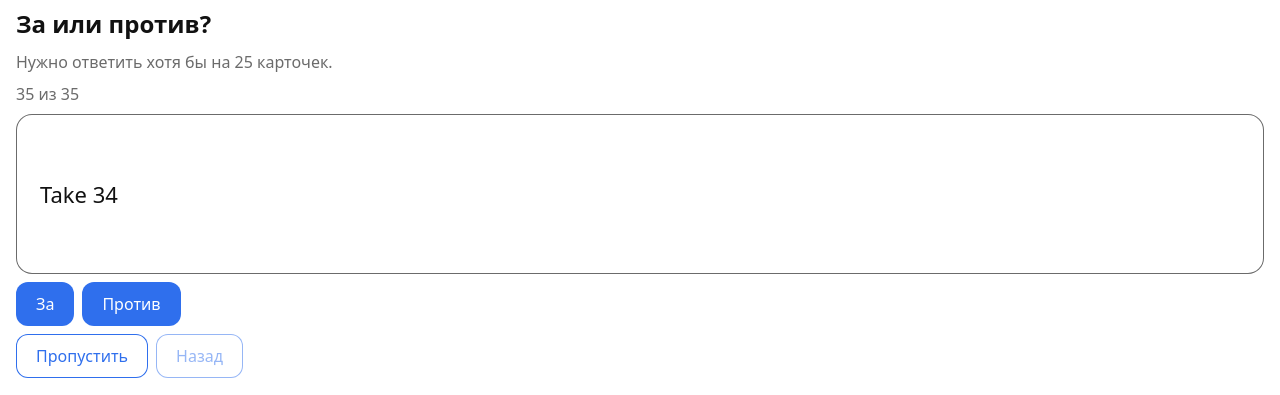
Scenario: <Deck> › brings skipped cards back when fewer than 25 were answered, then finishes
Later steps or results of the test are not shown.
Expected: the text "Take 34" is shown, 16,114 -> 1264,274
Step 1. Click the button "За" → (45, 304), box 16,282 -> 74,326
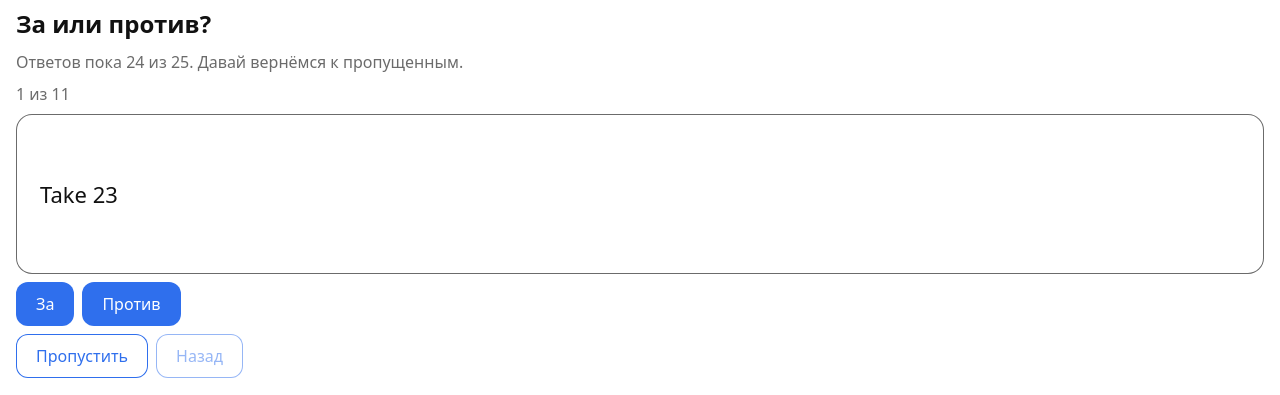
Now the text "Ответов пока 24 из 25. Давай вернёмся к пропущенным." is shown, box 16,51 -> 463,73
Now the text "Take 23" is shown, box 16,114 -> 1264,274
